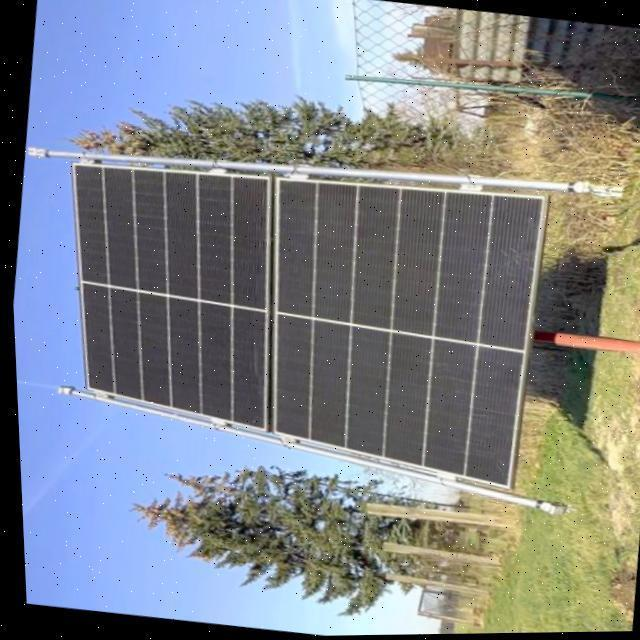Normal Solar Panel: (36, 140, 556, 496)
